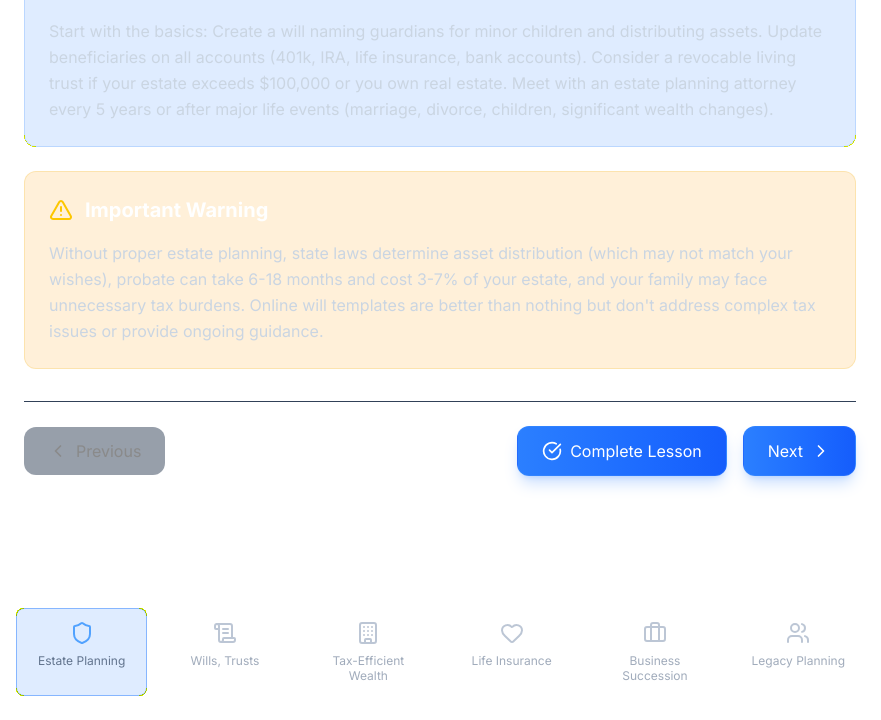
Scenario: EstatePlanningLessonEnhanced › shows chapter summary after all lessons completed
The image size is (881, 720).
(page scrolled)
Click the button "Next".
click(799, 451)  # box [743,426,856,476]
(page scrolled)
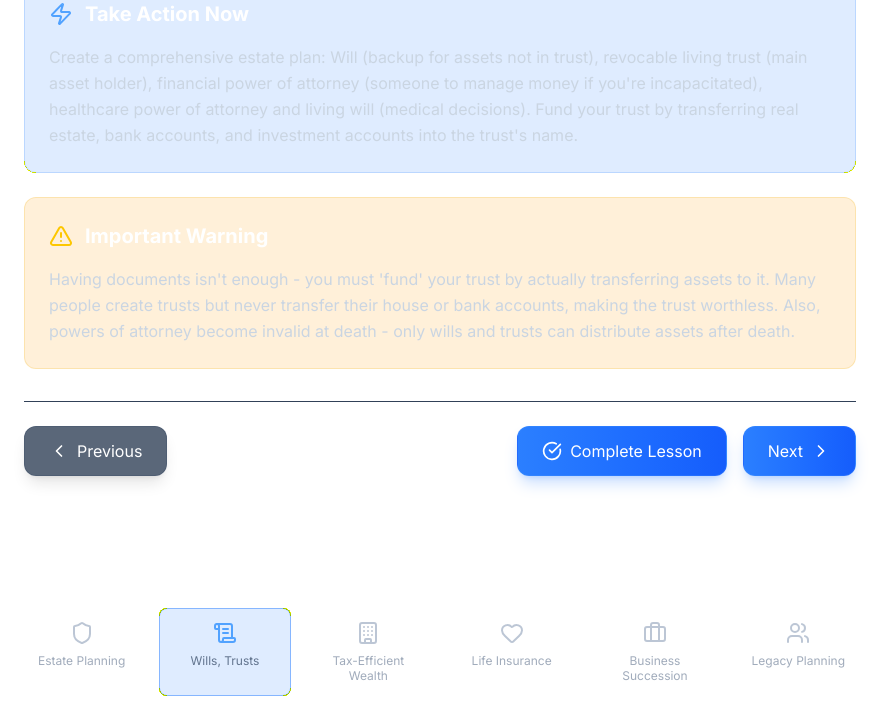
Click the button "Next".
click(799, 451)  # box [743,426,856,476]
(page scrolled)
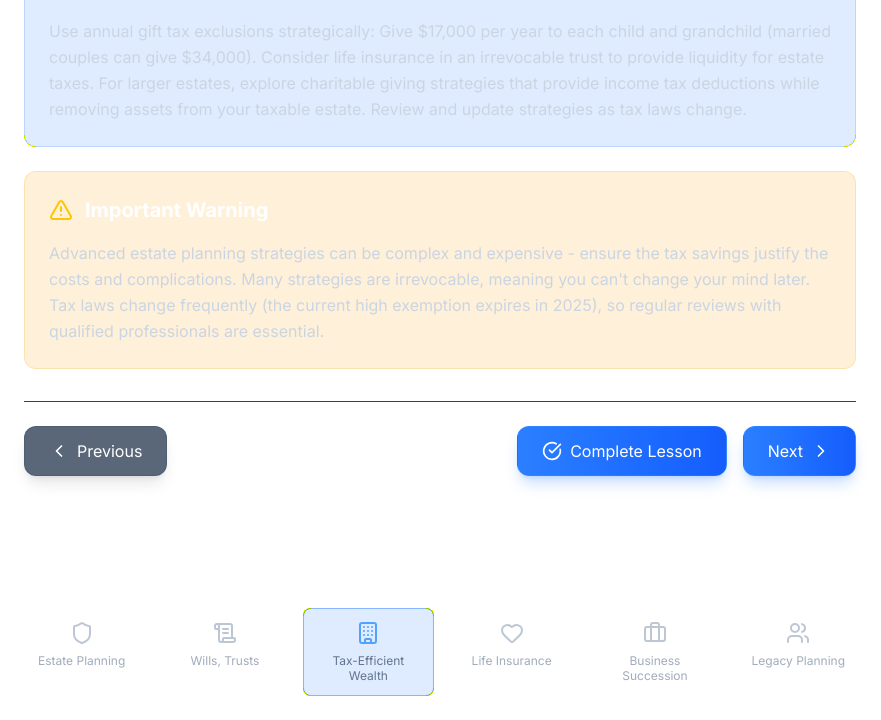
Click the button "Next".
click(799, 451)  # box [743,426,856,476]
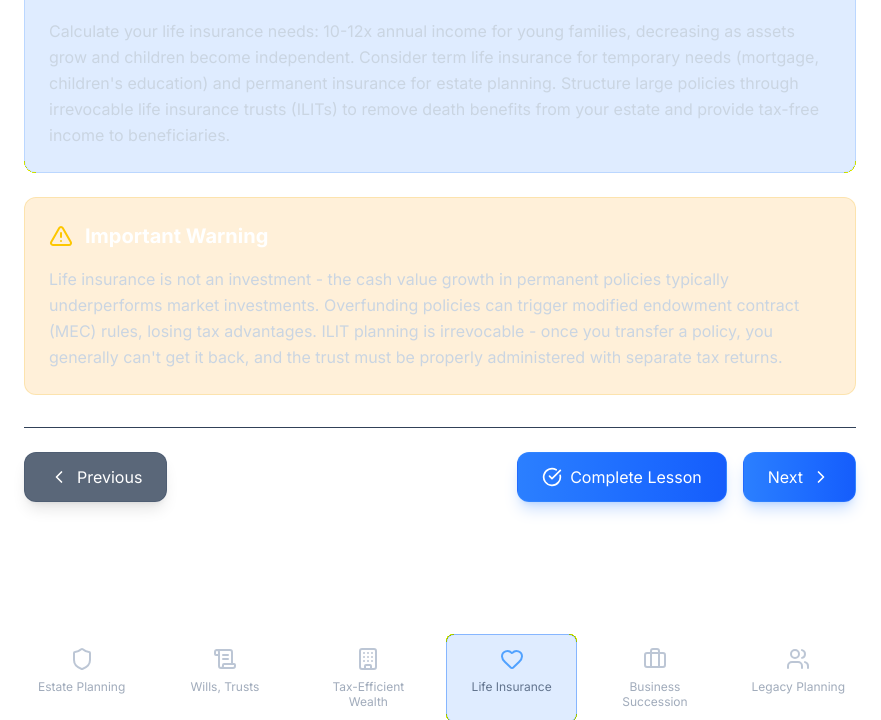
Click the button "Next".
click(799, 477)  # box [743,452,856,502]
(page scrolled)
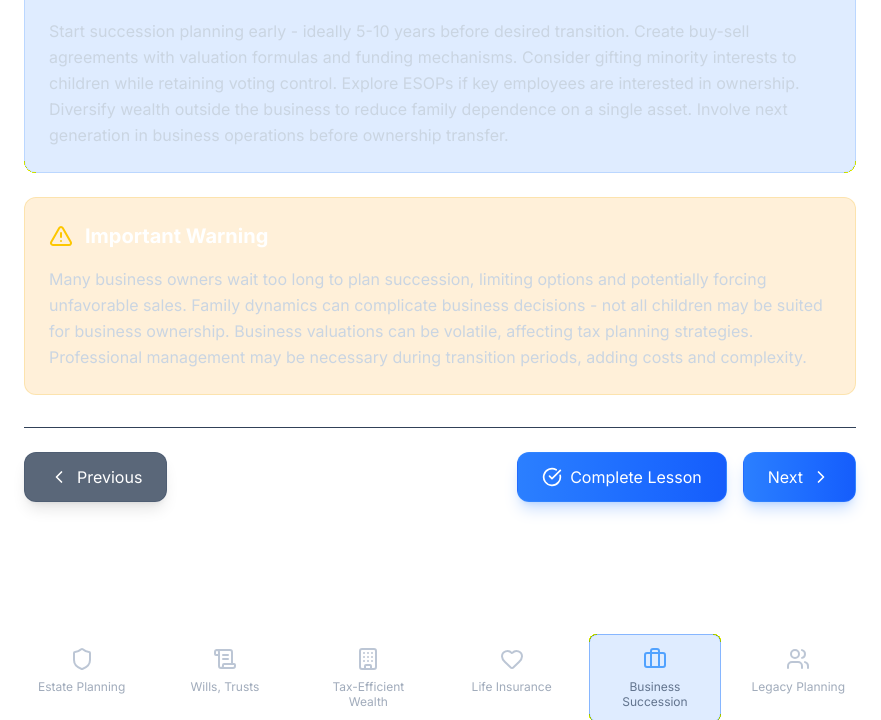
Click the button "Next".
click(799, 477)  # box [743,452,856,502]
(page scrolled)
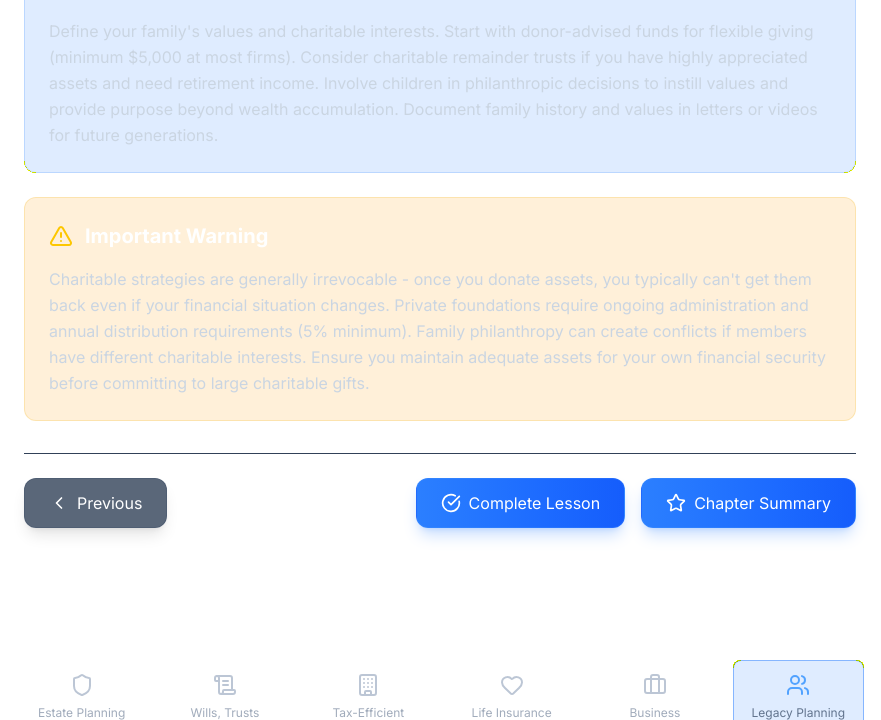
Check: the button "Chapter Summary" is shown
Click the button "Chapter Summary".
click(749, 503)  # box [641,478,856,528]
(page scrolled)
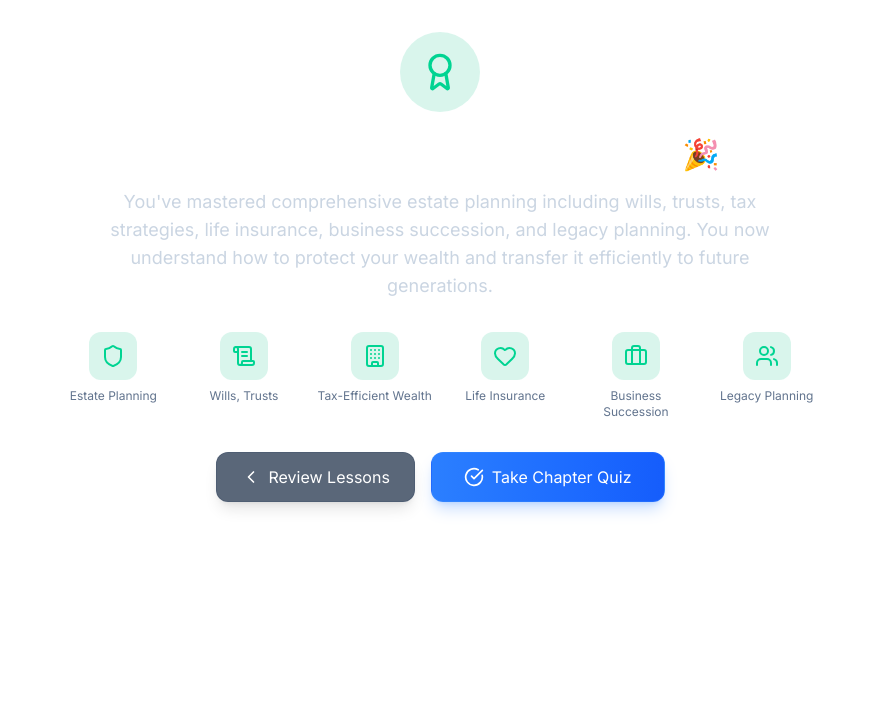
Check: the heading "Estate Planning Mastery Complete! 🎉" is shown, box [160,136,720,172]
Check: the button "Take Chapter Quiz" is shown, box [431,452,664,502]
